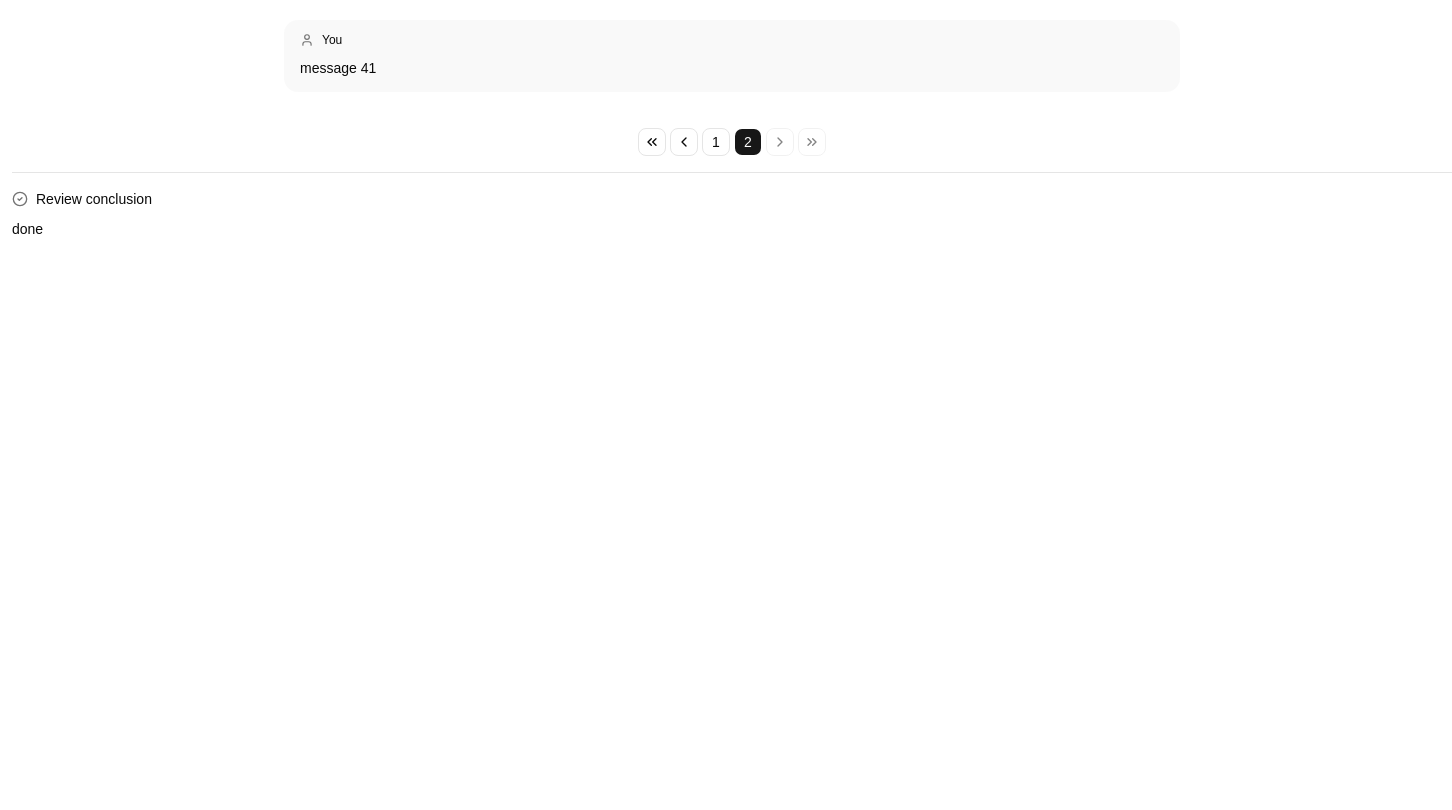
Scenario: Review PL Thread activity › pages a long Review chat with the shared pagination control
The image size is (1452, 810).
Expected: the navigation bar named "Review activity pages" is shown, [638,128,826,156]
Expected: the text "message 41" is shown, [300,60,376,76]
Click the button named "Previous page".
click(684, 142)  # box [670,128,698,156]
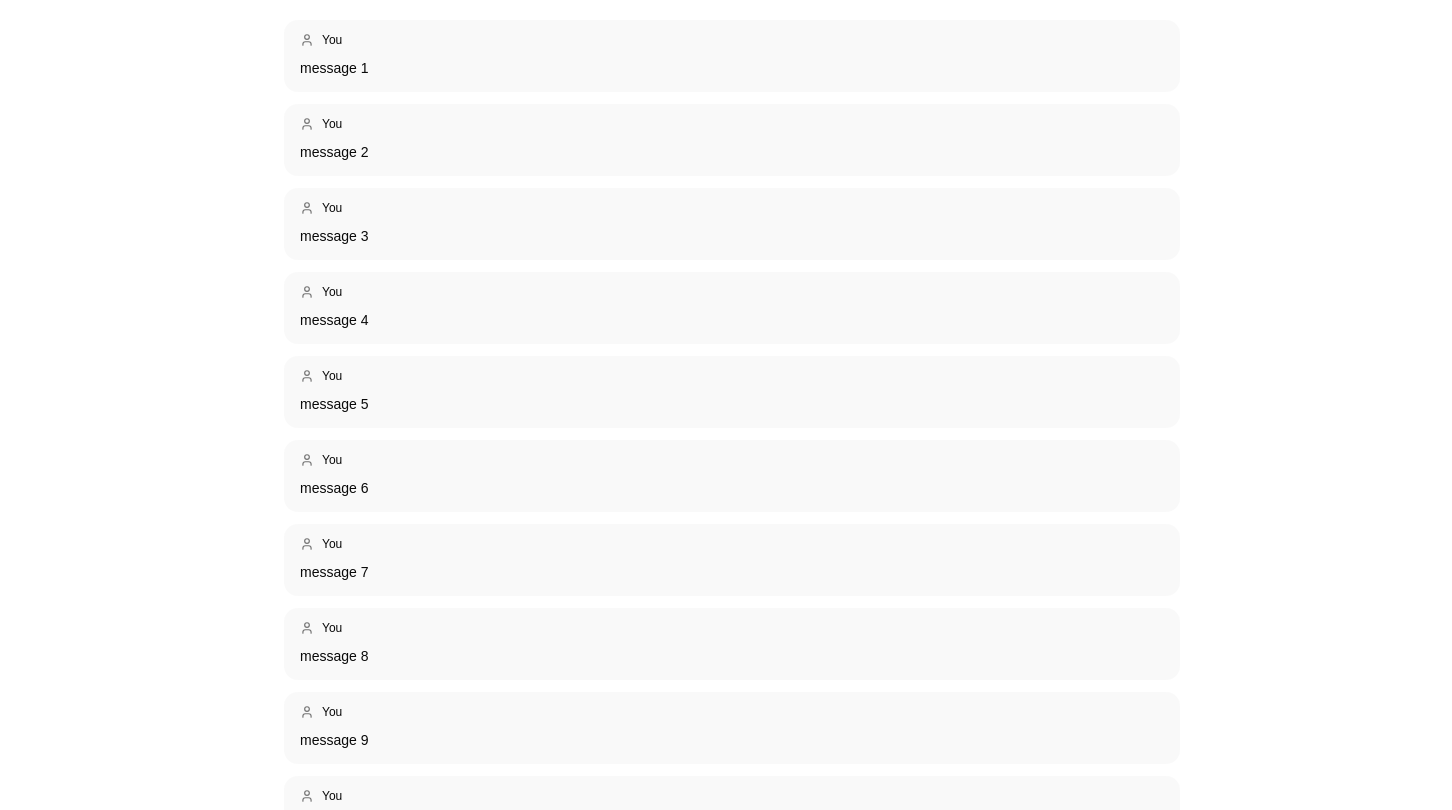
Expected: the text "message 1" is shown, [300,60,368,76]
Expected: the text "message 41" is gone
